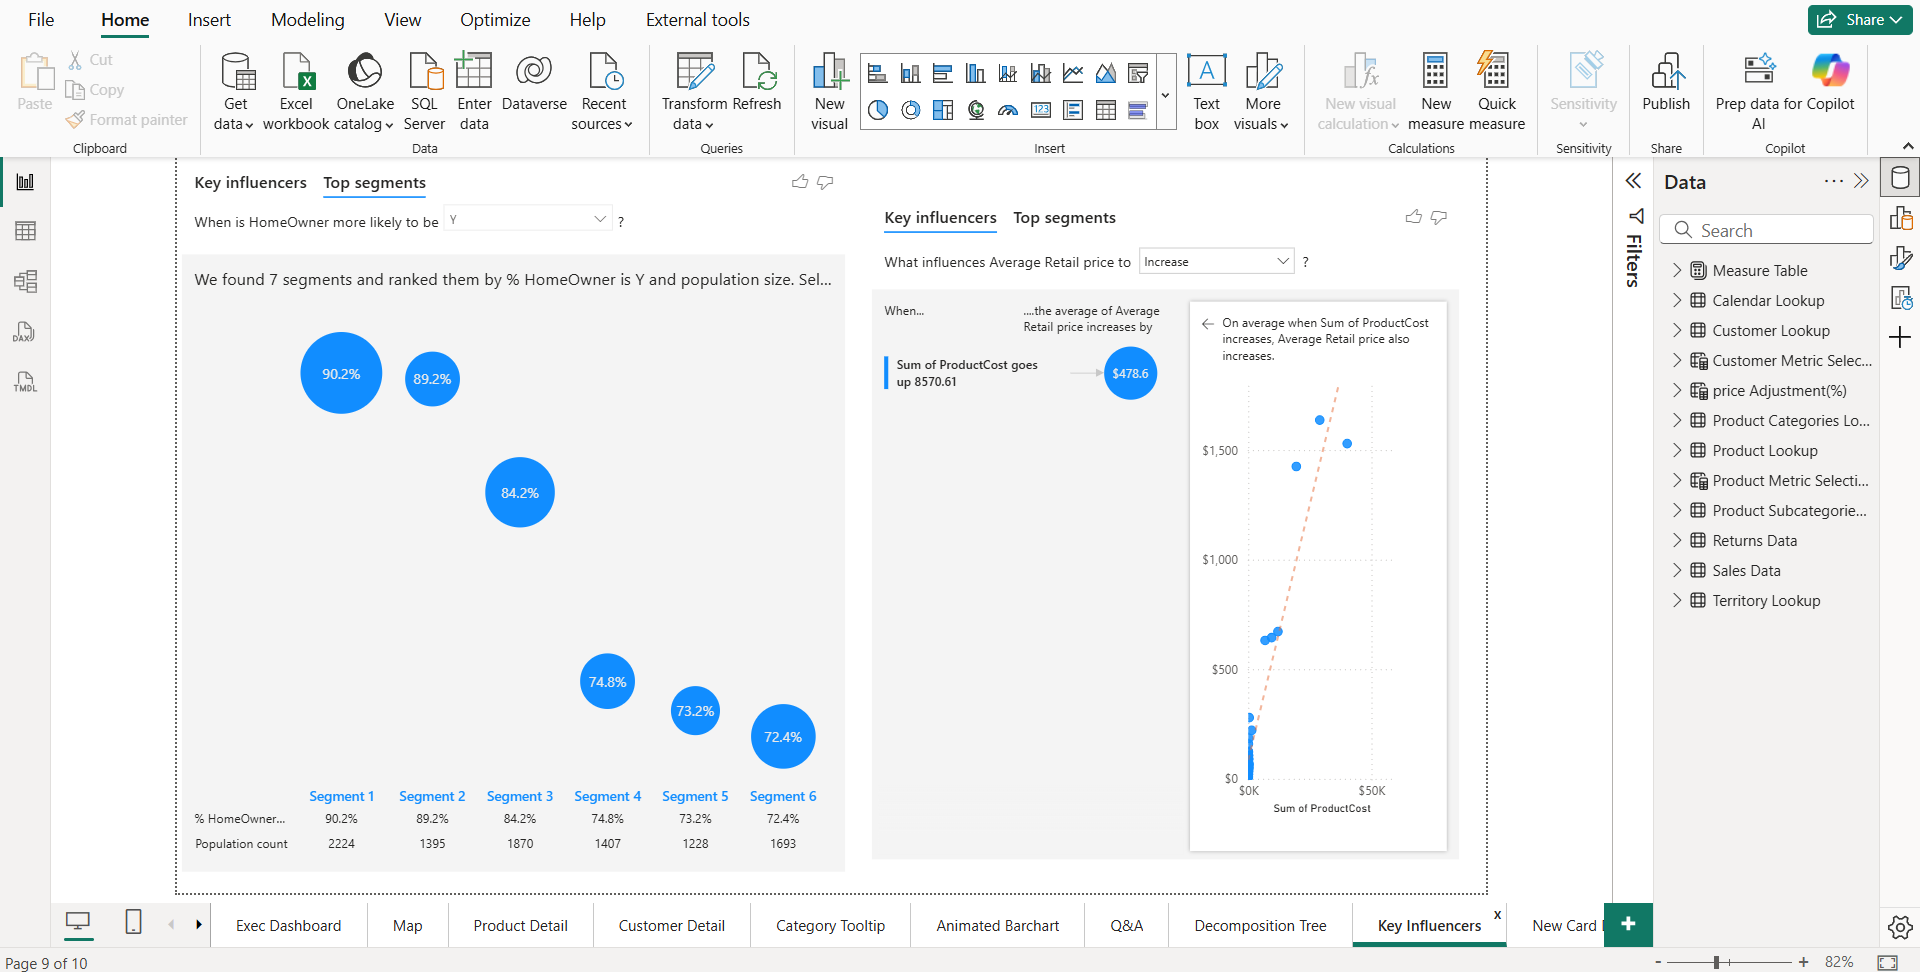

What the dashboard file says about the page in this screenshot:
{"tool":"powerbi","page":{"name":"Key Influencers","canvas":[1280,720],"ordinal":8},"visuals":[{"type":"keyDriversVisual","fields":{"Target":["Customer Lookup.HomeOwner"],"ExplainBy":["Customer Lookup.AnnualIncome","Customer Lookup.EducationLevel","Customer Lookup.Parent","Customer Lookup.MaritalStatus","Customer Lookup.Occupation"]},"box":[0,0,658.9,704.1],"z":0},{"type":"keyDriversVisual","fields":{"ExplainBy":["Sum(Product Lookup.ProductCost)"],"Target":["Measure Table.Average Retail price"],"Details":["Product Subcategories Lookup.SubcategoryName"]},"box":[674.8,34.2,584.3,657.7],"z":1000}]}

Visuals, with their boxes on the page's 1280x720 design canvas (x1, y1, x2, y2). These are canvas units, not pixel positions in the 1920x972 screenshot, which may show the page scaled, cropped or inside an application window:
keyDriversVisual - Customer Lookup.HomeOwner x Customer Lookup.AnnualIncome: bbox=(0, 0, 659, 704)
keyDriversVisual - Sum(Product Lookup.ProductCost) x Measure Table.Average Retail price: bbox=(675, 34, 1259, 692)
